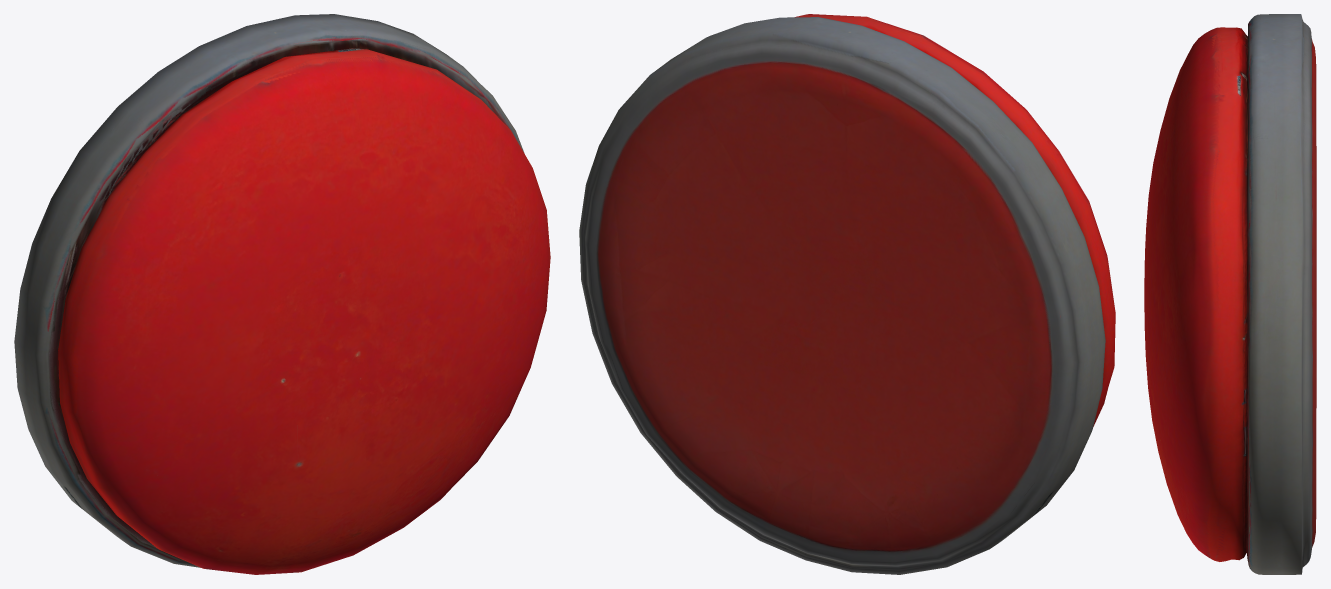
File: Red_Alert_Button_0730051445_texture.fbx
3 views of the same model, side by side, from view 1: azimuth 30°, elevation 25°; view 2: azimuth 150°, elevation 25°; view 3: azimuth 270°, elevation 25° (orthographic). The views are drawn at different scales.
Parts seen in each view (by area): view 1: input; view 2: input; view 3: input.
Part boxes in pixels (left/top/right/bottom): input: left=14, top=14, right=550, bottom=574; input: left=579, top=14, right=1115, bottom=574; input: left=1144, top=14, right=1316, bottom=574.
Bounding box in the file's own units: 200 × 199 × 61.4.
1 material, 1 textured.
